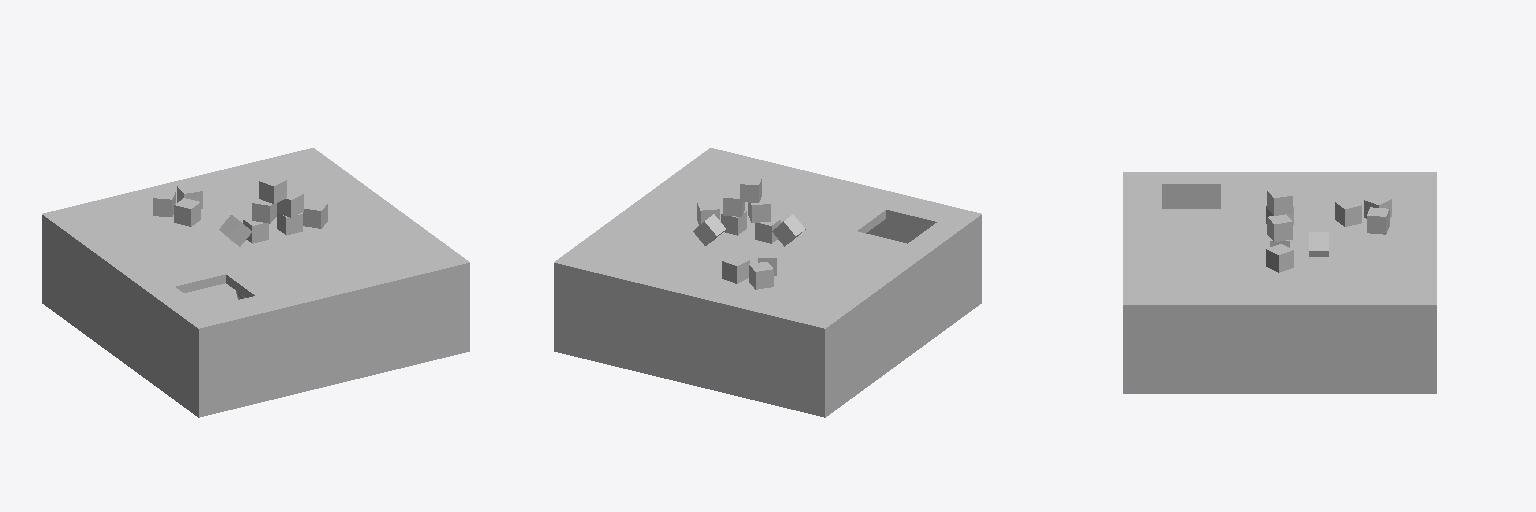
Rendered from level.obj.
3 views of the same model, side by side, from view 1: azimuth 30°, elevation 25°; view 2: azimuth 150°, elevation 25°; view 3: azimuth 270°, elevation 25° (orthographic).
Visible parts, largest first — view 1: Cube_Cube.001; view 2: Cube_Cube.001; view 3: Cube_Cube.001.
Boxes of the visible parts, x1=… form: Cube_Cube.001: x1=42, y1=148, x2=469, y2=417; Cube_Cube.001: x1=554, y1=148, x2=981, y2=417; Cube_Cube.001: x1=1123, y1=172, x2=1436, y2=393.
Bounding box in the file's own units: 32 × 16 × 32.